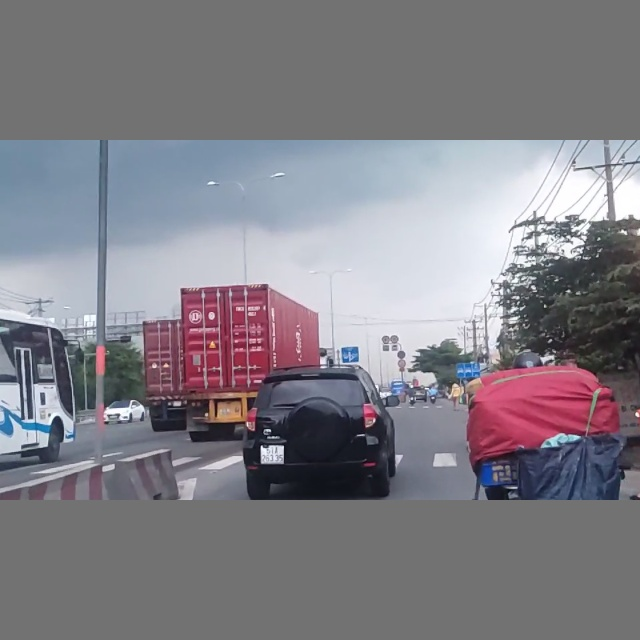R.415a: (456, 363, 481, 377)
